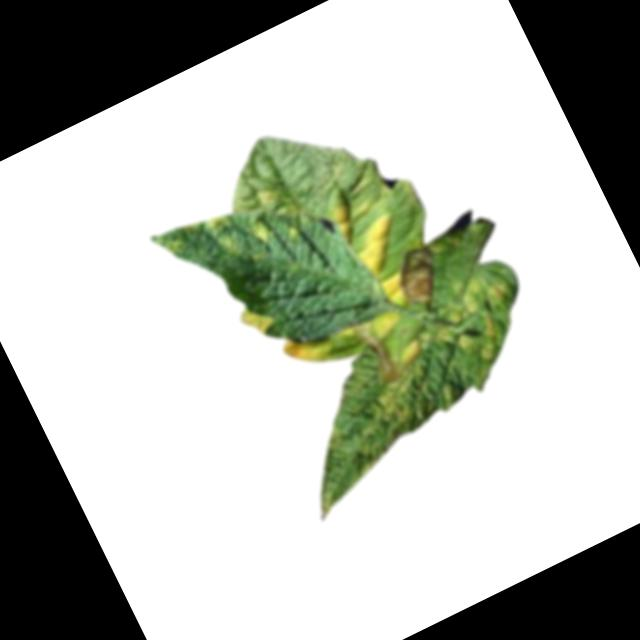Leaf_Mold: (425, 265, 534, 373), (356, 355, 449, 445), (344, 209, 416, 280), (322, 189, 373, 244), (279, 324, 335, 374), (201, 205, 250, 260), (360, 304, 404, 344), (377, 264, 415, 309), (237, 298, 278, 338), (254, 177, 288, 208), (249, 215, 279, 247)
